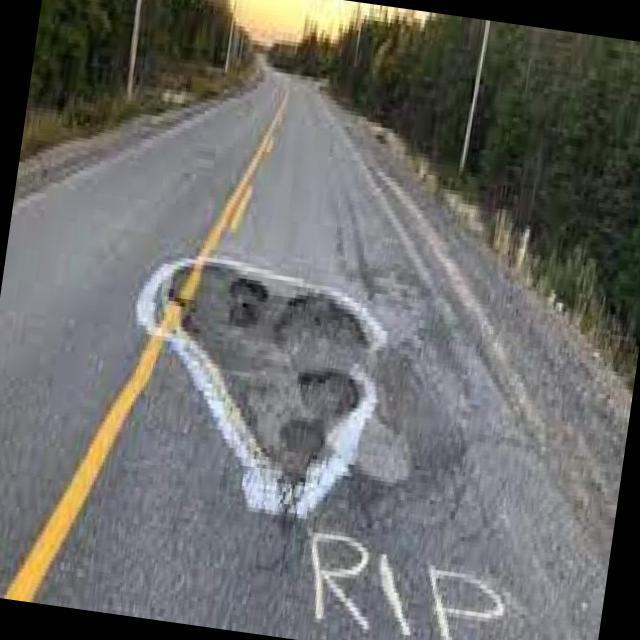Pothole: (273, 292, 369, 485), (227, 278, 269, 329)
